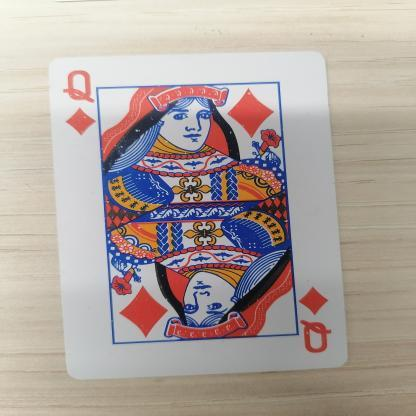QD: (50, 69, 117, 148), (290, 276, 340, 362)
